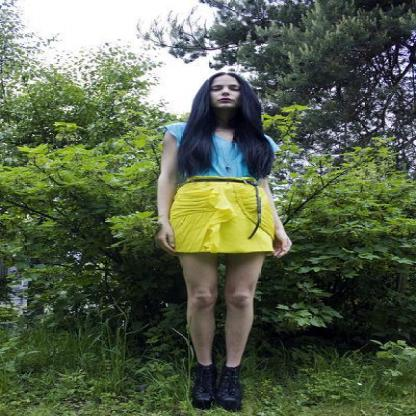shirt: (199, 129, 246, 177)
shoe: (190, 363, 245, 407)
skirt: (164, 176, 292, 252)
